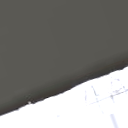crackTip: (87, 86, 127, 106)
